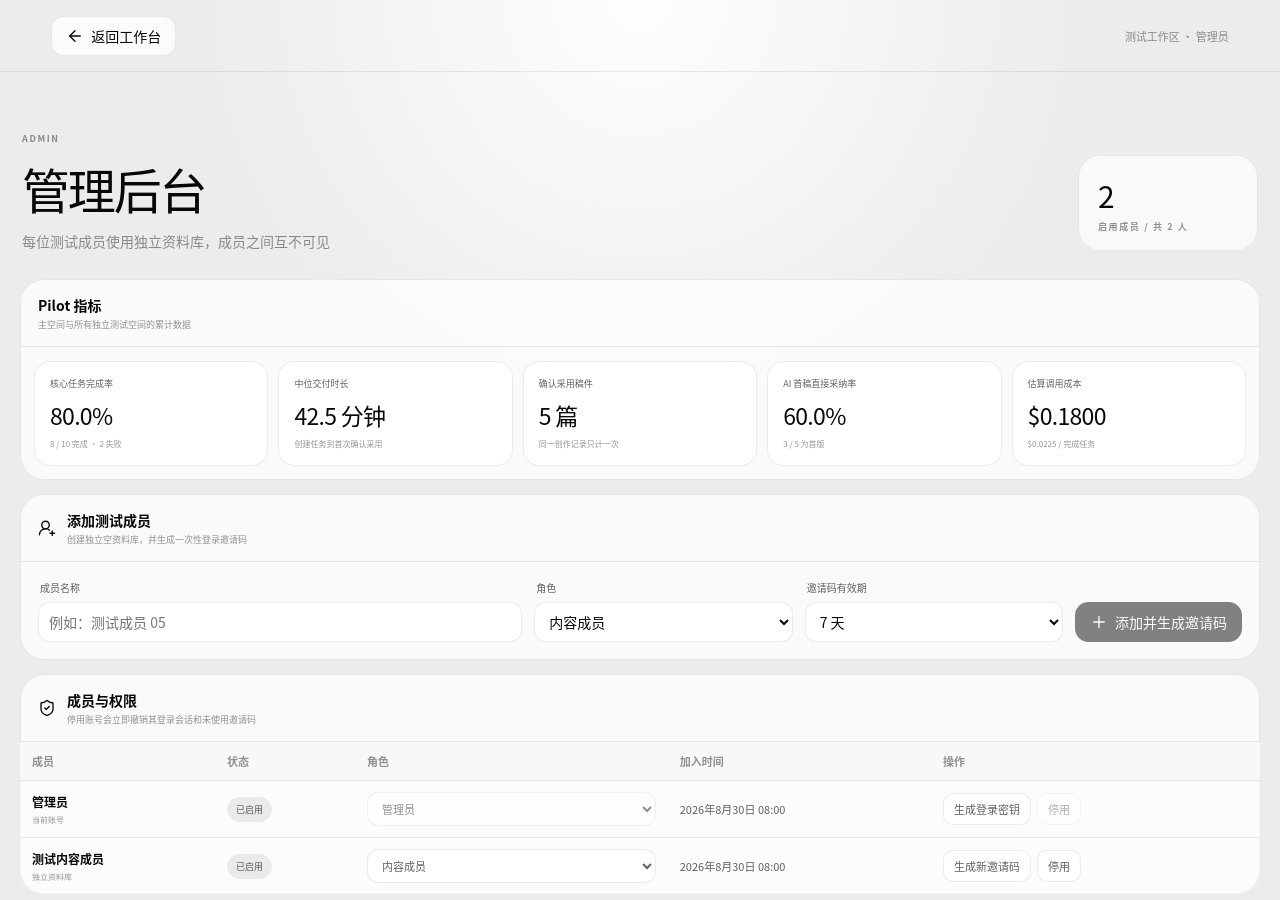
Scenario: 管理后台 › 允许管理员为自己生成可重复使用的登录密钥
Click the button "生成登录密钥". click: (987, 809)
box: [943,793,1031,825]
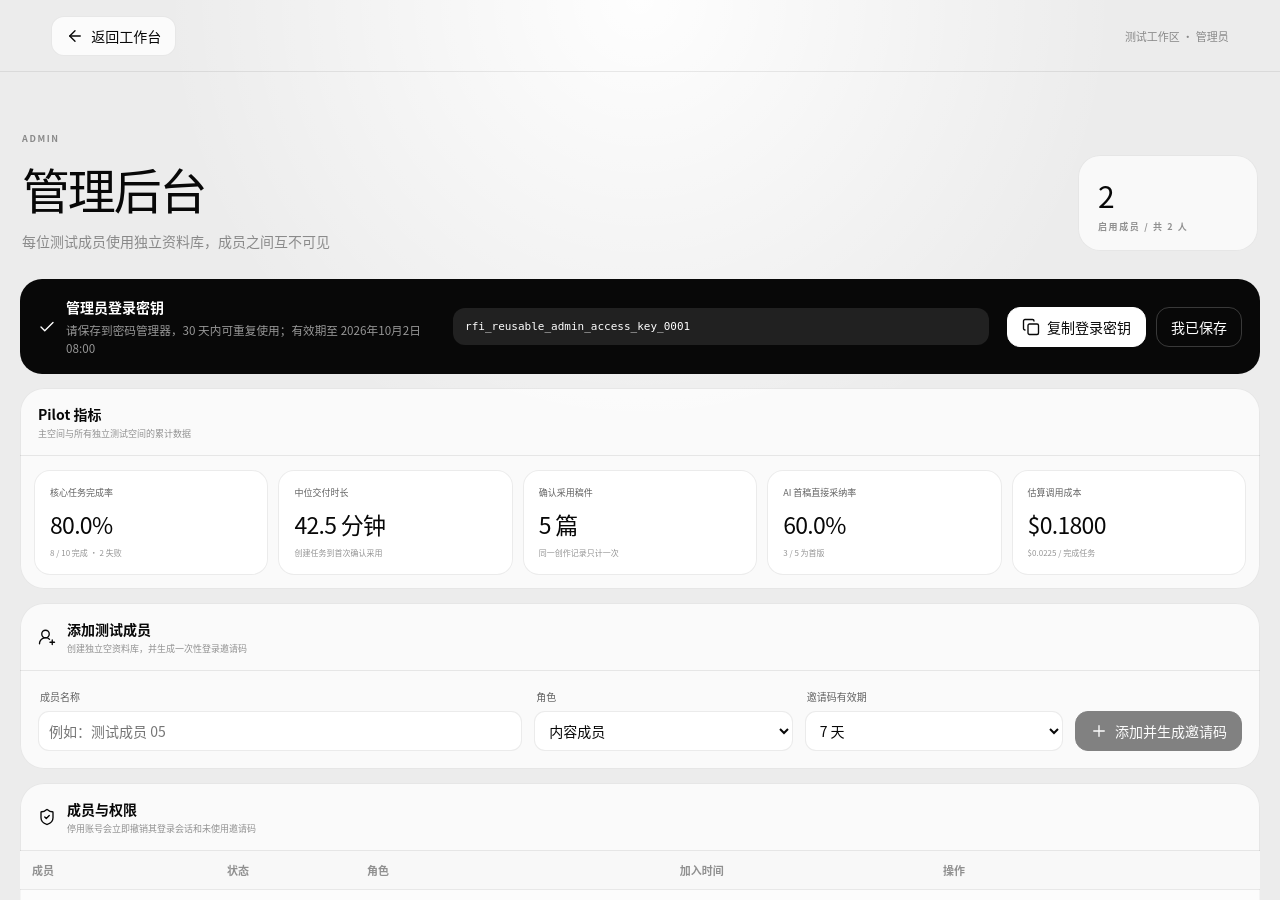
Result: the text "管理员登录密钥" is shown at [66,297,164,317]
Result: the text "30 天内可重复使用" is shown at [66,321,280,338]
